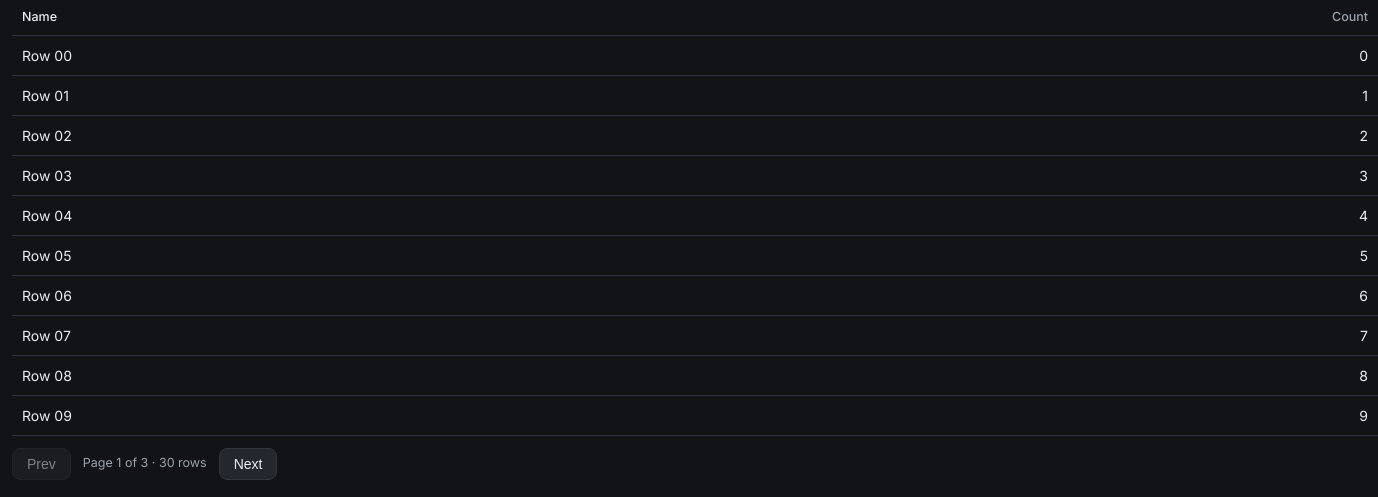
Test: DataTable › paginates when rows exceed pageSize
Expected: the text "Page 1 of 3 · 30 rows" is shown, left=83, top=454, right=207, bottom=473
Click the button "Next" at (248, 464), box left=219, top=448, right=277, bottom=480
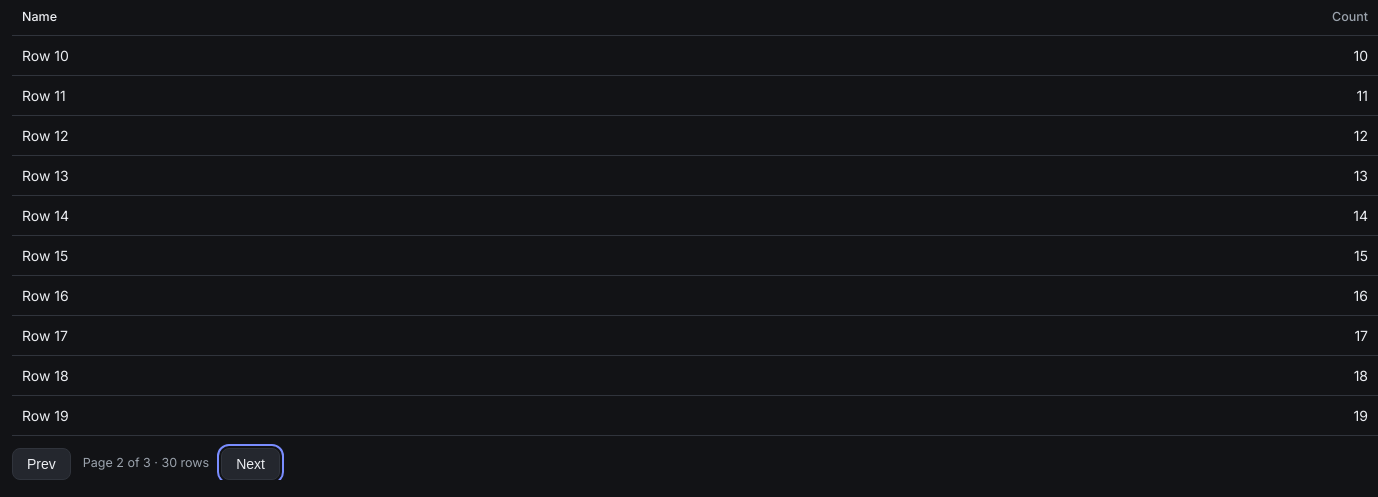
Expected: the text "Page 2 of 3 · 30 rows" is shown, left=83, top=454, right=209, bottom=473
Expected: the cell "Row 10" is shown, left=12, top=35, right=756, bottom=75
